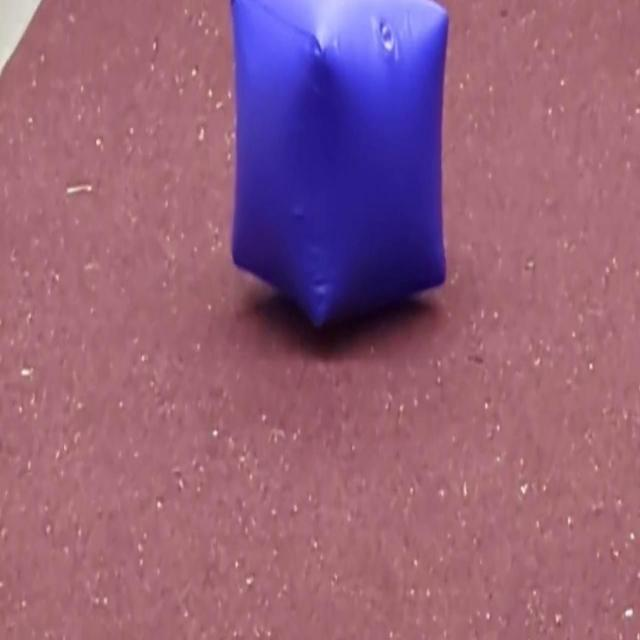frc_cube: (229, 0, 450, 340)
